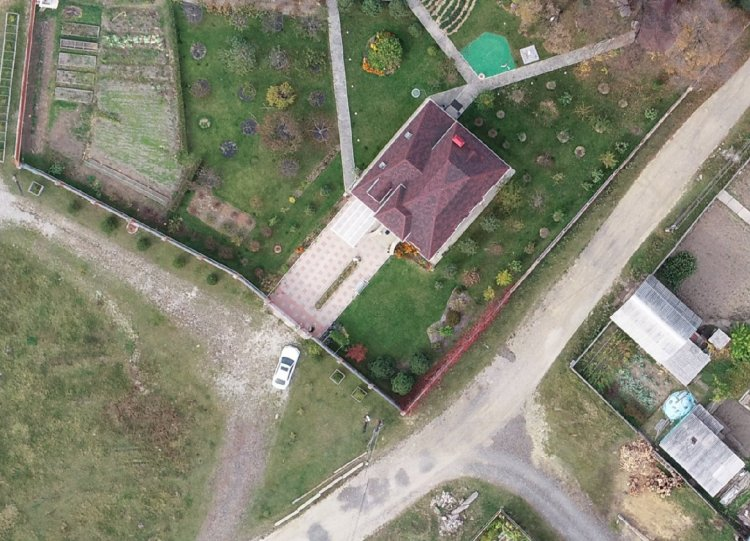build: (350, 92, 519, 264), (603, 272, 737, 388), (658, 404, 749, 506)
